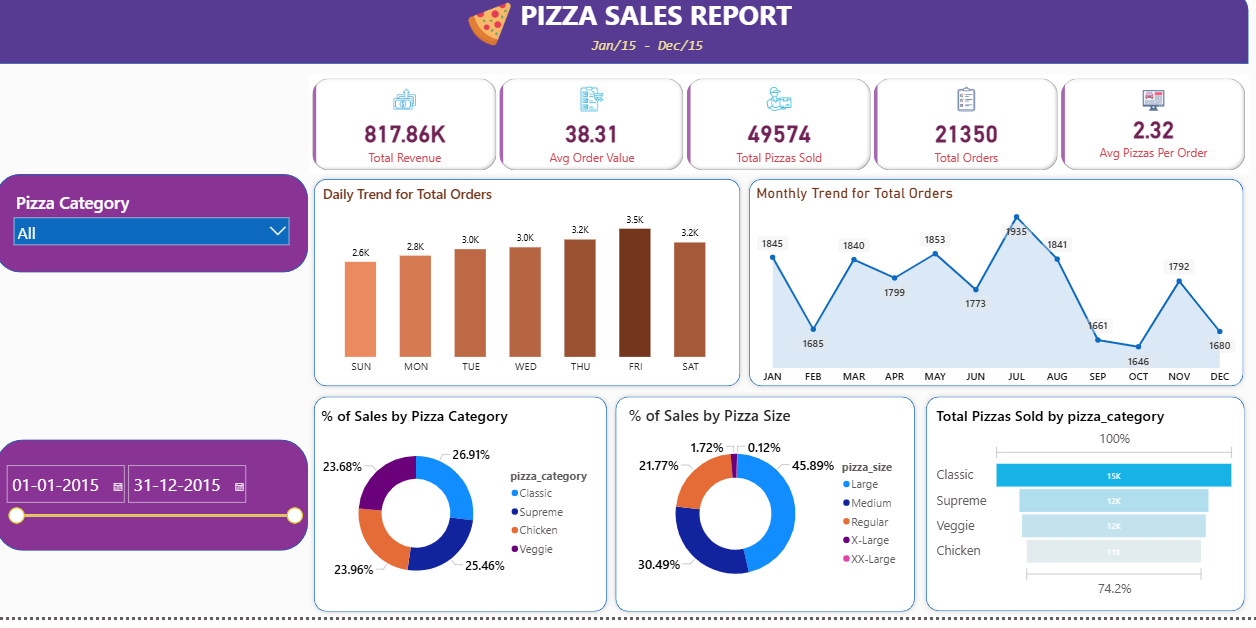

This screenshot's page, from the dashboard's own definition file:
{"tool":"powerbi","page":{"name":"Page 1","canvas":[2000,1000],"ordinal":0},"visuals":[{"type":"cardVisual","fields":{"Data":["pizza_sales.Total Revenue","pizza_sales.Avg Order Value","pizza_sales.Total Pizzas Sold","pizza_sales.Total Orders","pizza_sales.Avg Pizzas Per Order"]},"box":[500,147.5,1482.5,155],"z":0},{"type":"shape","box":[6.7,15.7,1974.6,112.4],"z":1000},{"type":"textbox","box":[940.8,83.7,196.2,43.3],"z":2000},{"type":"image","box":[728.1,26,115.8,80.4],"z":3000},{"type":"shape","box":[500,302.5,687.5,342.5],"z":4000},{"type":"columnChart","title":"Daily Trend for Total Orders","fields":{"Category":["pizza_sales.Order Day"],"Y":["pizza_sales.Total Orders"]},"box":[517.7,319.1,650.1,307.3],"z":5000},{"type":"shape","box":[1187.5,302.5,795,342.5],"z":6000},{"type":"shape","box":[6.7,303.6,492.5,155.2],"z":7000},{"type":"areaChart","title":"Monthly Trend for Total Orders","fields":{"Y":["pizza_sales.Total Orders"],"Category":["pizza_sales.Order Month"]},"box":[1200,320,766,324],"z":8000},{"type":"shape","box":[500,645,477.5,355],"z":9000},{"type":"shape","box":[977.5,645,487.5,355],"z":10000},{"type":"shape","box":[1466,646,518,354],"z":11000},{"type":"donutChart","title":"% of Sales by Pizza Category","fields":{"Y":["pizza_sales.Total Revenue"],"Category":["pizza_sales.pizza_category"]},"box":[515,667.5,445,310],"z":12000},{"type":"donutChart","title":"% of Sales by Pizza Size","fields":{"Category":["pizza_sales.pizza_size"],"Y":["pizza_sales.Total Revenue"]},"box":[1000,667.5,445,310],"z":13000},{"type":"funnel","fields":{"Category":["pizza_sales.pizza_category"],"Y":["pizza_sales.Total Pizzas Sold"]},"box":[1484.6,666.7,479.9,309.7],"z":14000},{"type":"shape","box":[6.7,721.9,492.5,175.4],"z":15000},{"type":"slicer","fields":{"Values":["pizza_sales.pizza_category"]},"box":[27,323.8,454.3,114.7],"z":16000},{"type":"slicer","fields":{"Values":["pizza_sales.order_date"]},"box":[11.2,751.1,488,116.9],"z":17000},{"type":"textbox","box":[793.7,17.3,507.9,66.4],"z":17001}]}

Visuals, with their boxes in screenshot pixels (x1, y1, x2, y2), scaled from the page's 2000x1000 canvas onto the 1256x628 screenshot:
cardVisual - pizza_sales.Total Revenue x pizza_sales.Avg Order Value: (314,93,1245,190)
shape: (4,10,1244,80)
textbox: (591,53,714,80)
image: (457,16,530,67)
shape: (314,190,746,405)
"Daily Trend for Total Orders" columnChart: (325,200,733,393)
shape: (746,190,1245,405)
shape: (4,191,313,288)
"Monthly Trend for Total Orders" areaChart: (754,201,1235,404)
shape: (314,405,614,627)
shape: (614,405,920,627)
shape: (921,406,1246,627)
"% of Sales by Pizza Category" donutChart: (323,419,603,614)
"% of Sales by Pizza Size" donutChart: (628,419,907,614)
funnel - pizza_sales.pizza_category x pizza_sales.Total Pizzas Sold: (932,419,1234,613)
shape: (4,453,313,564)
slicer - pizza_sales.pizza_category: (17,203,302,275)
slicer - pizza_sales.order_date: (7,472,313,545)
textbox: (498,11,817,53)
